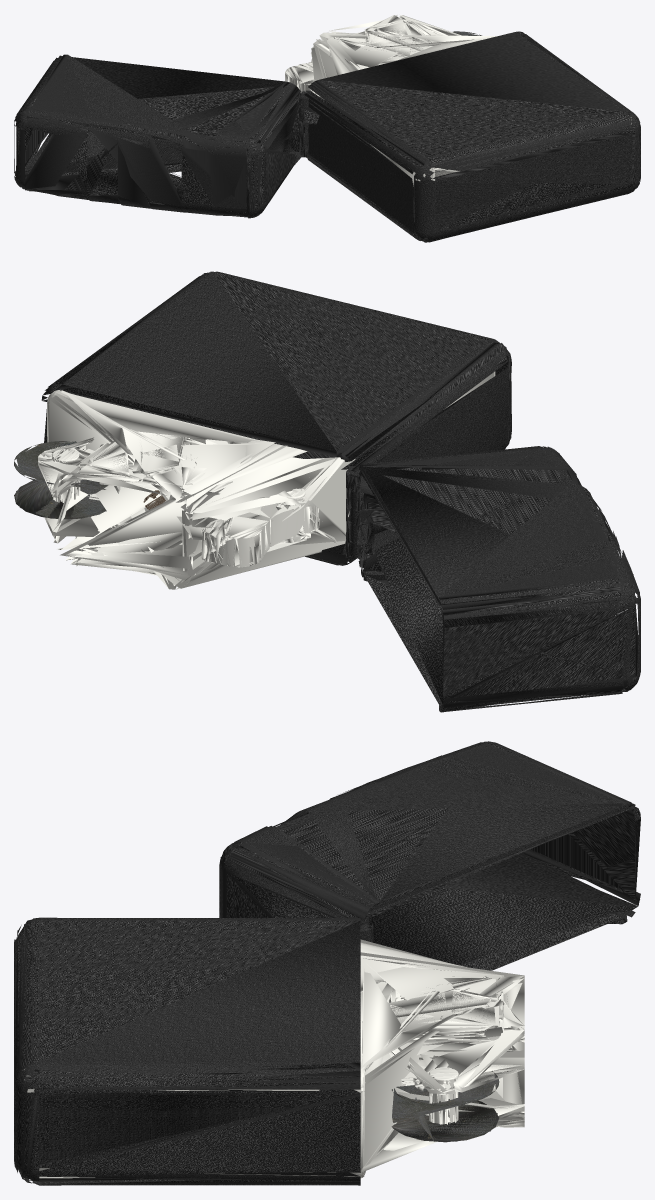
File: FFeuerzeug.glb
3 renders of one model, top to bottom at view 1: azimuth 30°, elevation 25°; view 2: azimuth 150°, elevation 25°; view 3: azimuth 270°, elevation 25°, orthographic. The views are drawn at different scales.
Parts seen in each view (by area): view 1: Volumenkörper1_1, Volumenkörper1, Volumenkörper1_6, Volumenkörper1_13, Volumenkörper1_9, Volumenkörper1_10; view 2: Volumenkörper1, Volumenkörper1_1, Volumenkörper1_6, Volumenkörper1_13, Cylinder, Volumenkörper1_9, Volumenkörper1_10, Volumenkörper1_8; view 3: Volumenkörper1_1, Volumenkörper1, Volumenkörper1_6, Cylinder, Volumenkörper1_2.
Part boxes in pixels (box(x1,y1,x2,y2)): Volumenkörper1_1: box(304, 31, 640, 242); Volumenkörper1: box(14, 54, 301, 218); Volumenkörper1_6: box(311, 14, 631, 186); Volumenkörper1_13: box(285, 62, 314, 92); Volumenkörper1_9: box(247, 91, 308, 171); Volumenkörper1_10: box(299, 105, 320, 146); Volumenkörper1: box(358, 446, 640, 712); Volumenkörper1_1: box(41, 271, 511, 565); Volumenkörper1_6: box(38, 371, 495, 589); Volumenkörper1_13: box(201, 506, 319, 567); Cylinder: box(14, 441, 108, 519); Volumenkörper1_9: box(346, 468, 396, 558); Volumenkörper1_10: box(346, 483, 369, 544); Volumenkörper1_8: box(350, 470, 364, 557); Volumenkörper1_1: box(14, 917, 360, 1185); Volumenkörper1: box(219, 741, 640, 970); Volumenkörper1_6: box(24, 939, 524, 1178); Cylinder: box(391, 1071, 499, 1142); Volumenkörper1_2: box(429, 1067, 458, 1124).
Bounding box in the file's own units: 0.0796 × 0.0132 × 0.062.
8 materials, 3 textured.
